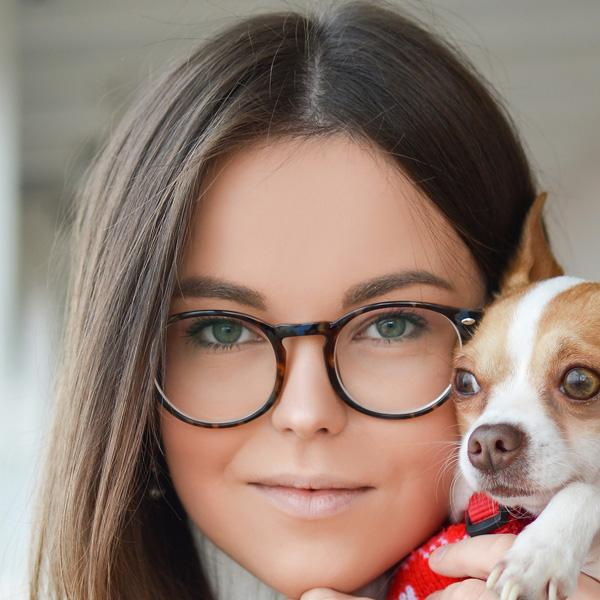Eyes: (177, 306, 269, 361), (345, 302, 434, 358)
